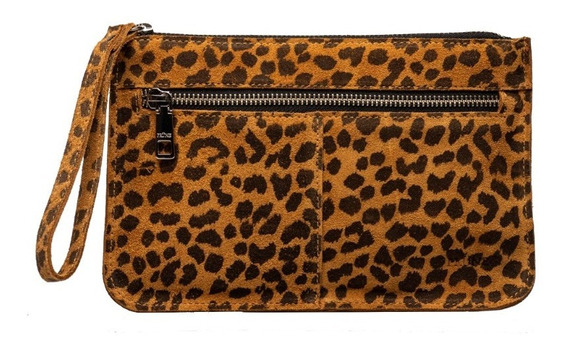cartera: (34, 21, 537, 315)
